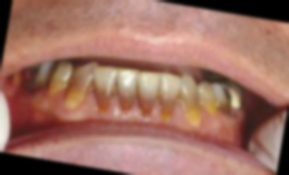Tooth Discoloration: (26, 57, 235, 137)
